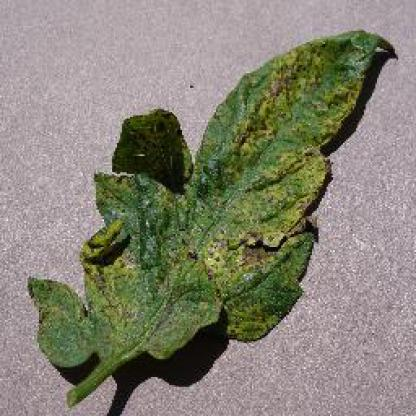bad leaf: (37, 22, 405, 406)
